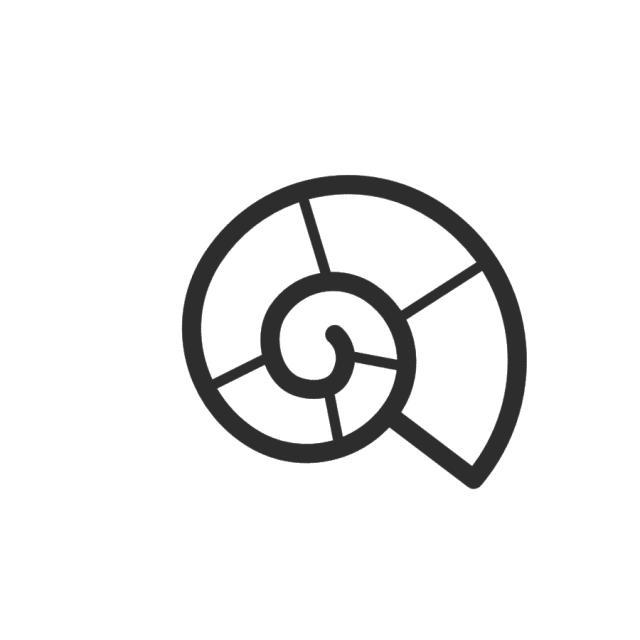fossil: (175, 172, 532, 497)
